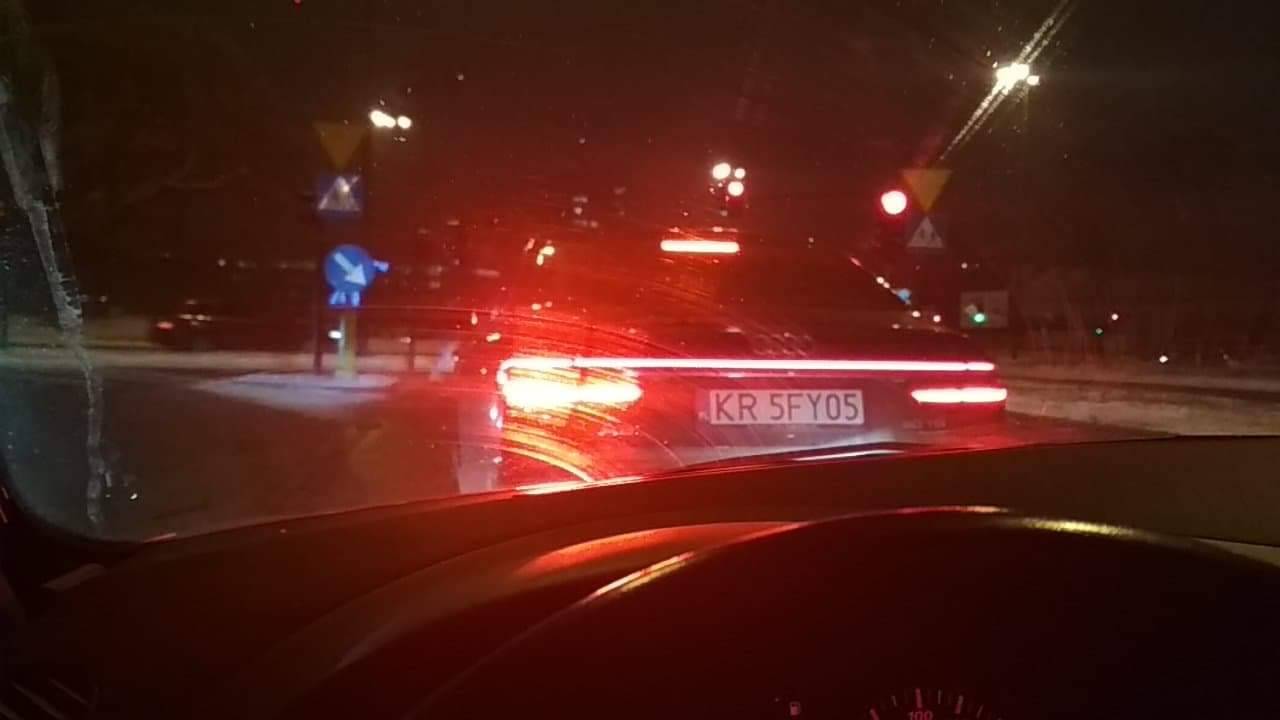A7: (900, 167, 953, 214)
C9: (324, 243, 376, 293)
